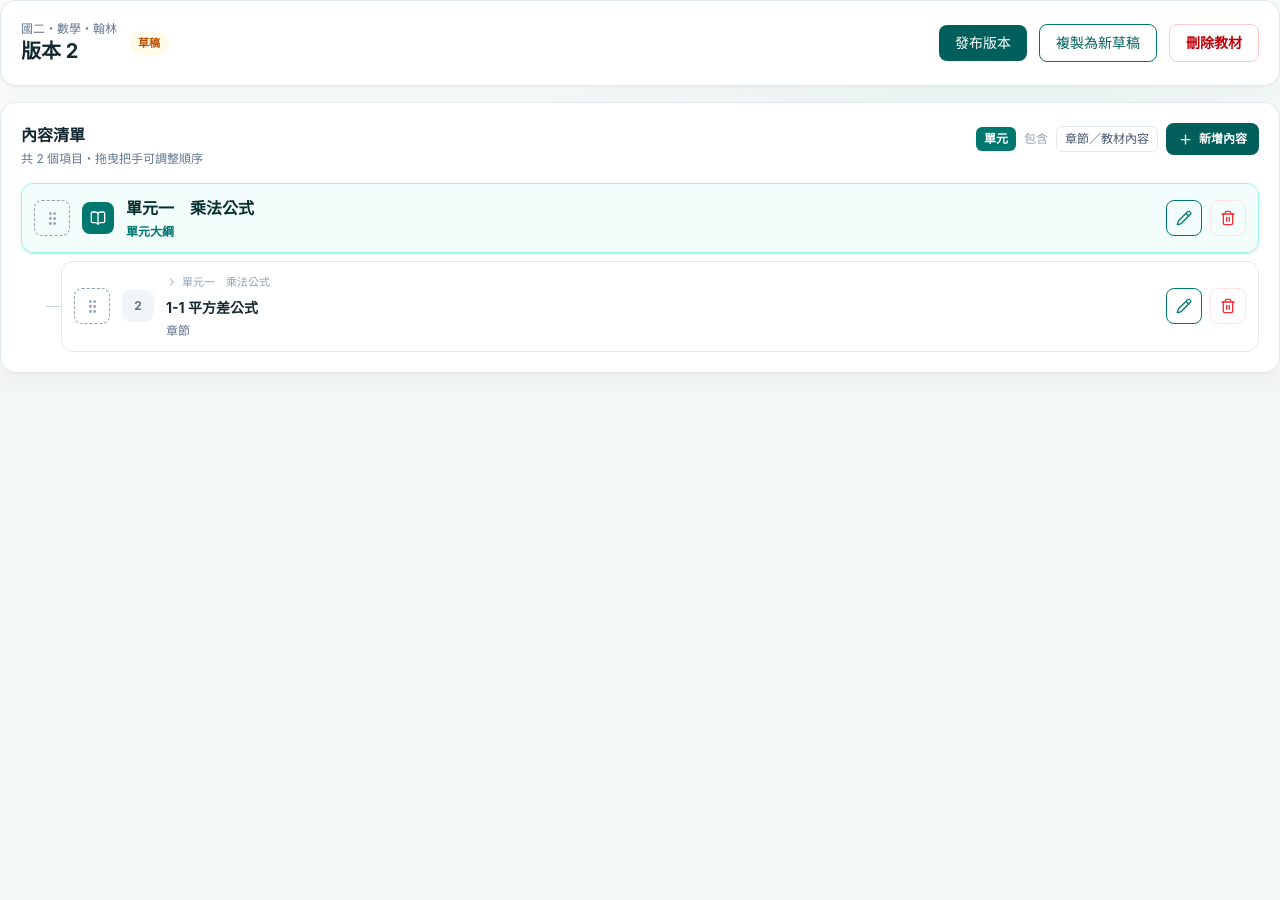
it: CurriculumDetailView › shows add, move boundaries, and delete confirmation for editable drafts
The image size is (1280, 900).
Click the button "新增內容": click(1212, 139) [1166,123,1259,155]
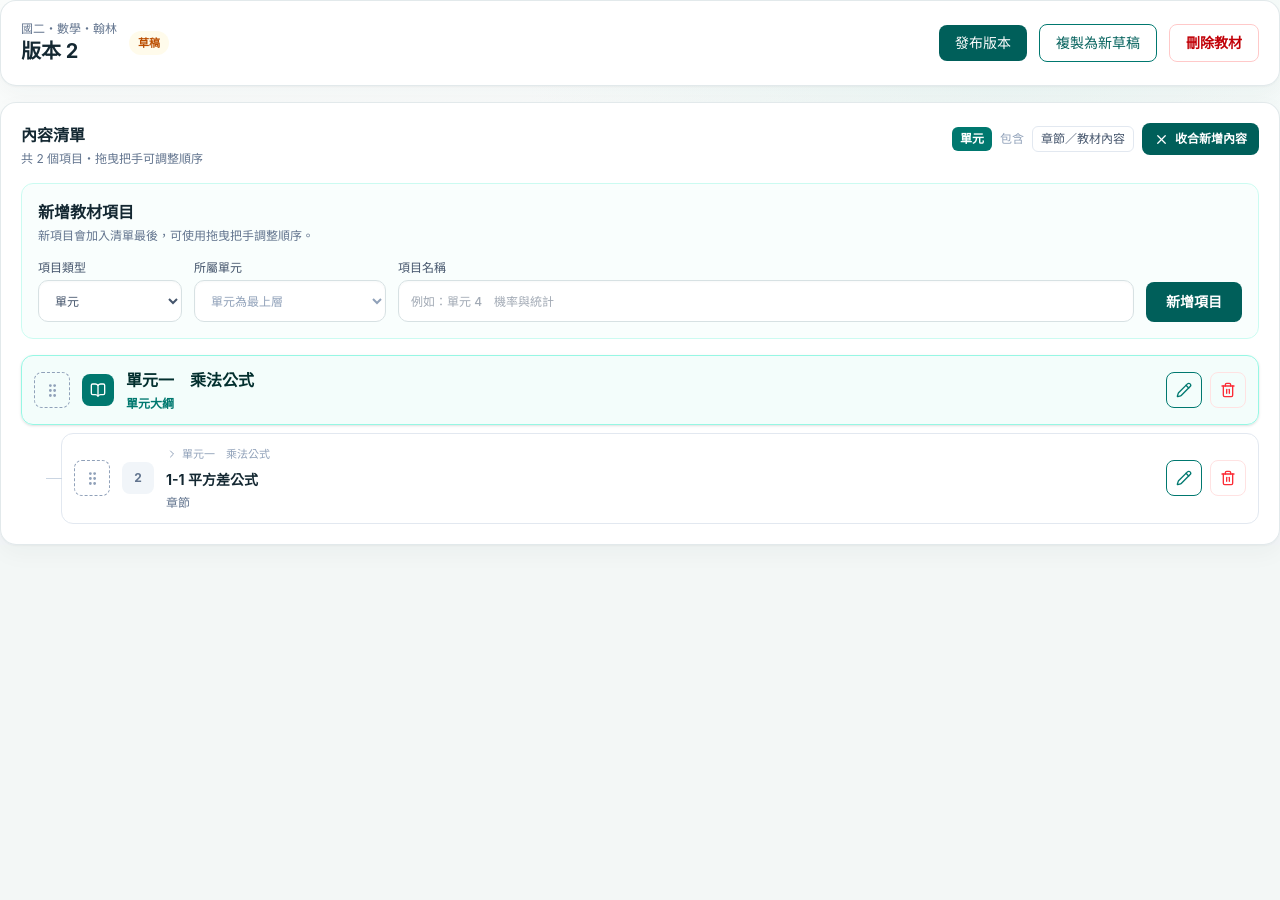
Now the dropdown labelled "項目類型" is shown
Now the dropdown labelled "所屬單元" is disabled, box [194,280,386,322]
Select "章節" in the dropdown labelled "項目類型": (110, 301) [38,280,182,322]
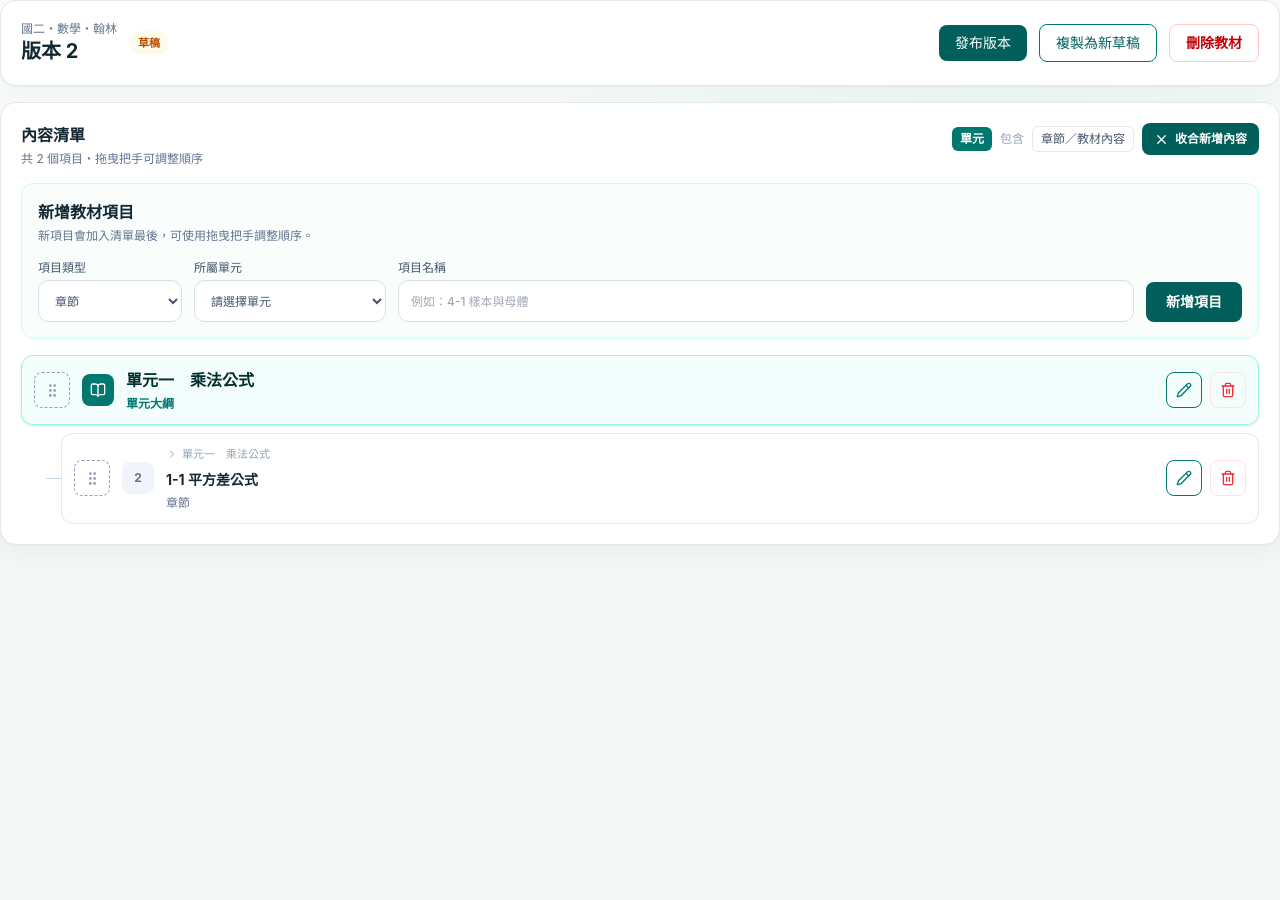
Expected: the element named "教材層級說明" reads "單元 包含 章節／教材內容", [952,126,1134,152]
Now the dropdown labelled "所屬單元" is enabled, box [194,280,386,322]
Click the button named "刪除「單元一　乘法公式」": click(1228, 390) [1210,372,1246,408]
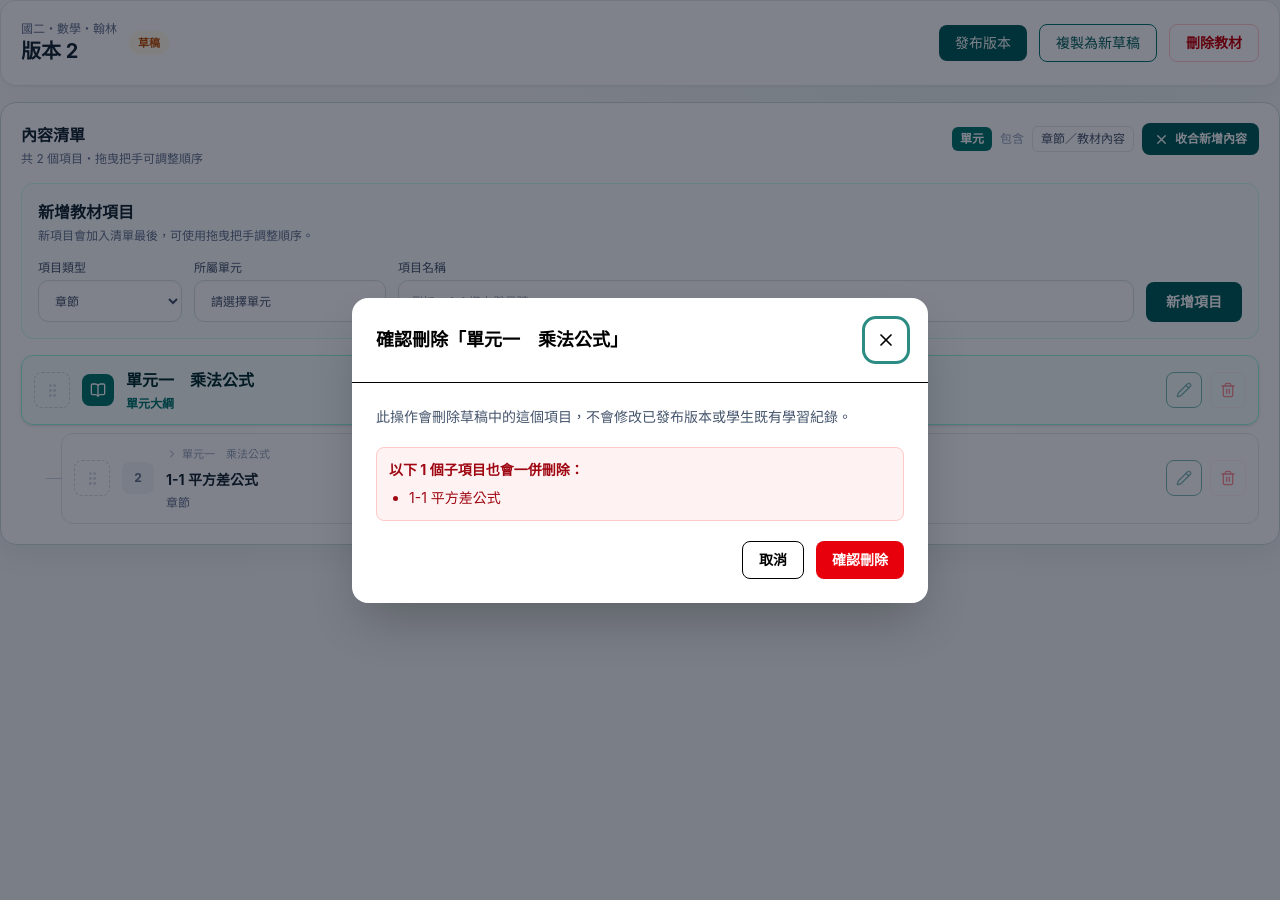
Now the number of dialogs is 1, box [352,298,928,602]
Now the text "以下 1 個子項目也會一併刪除：" is shown, box [389,460,584,478]
Click the button "取消": click(773, 560) [742,540,804,578]
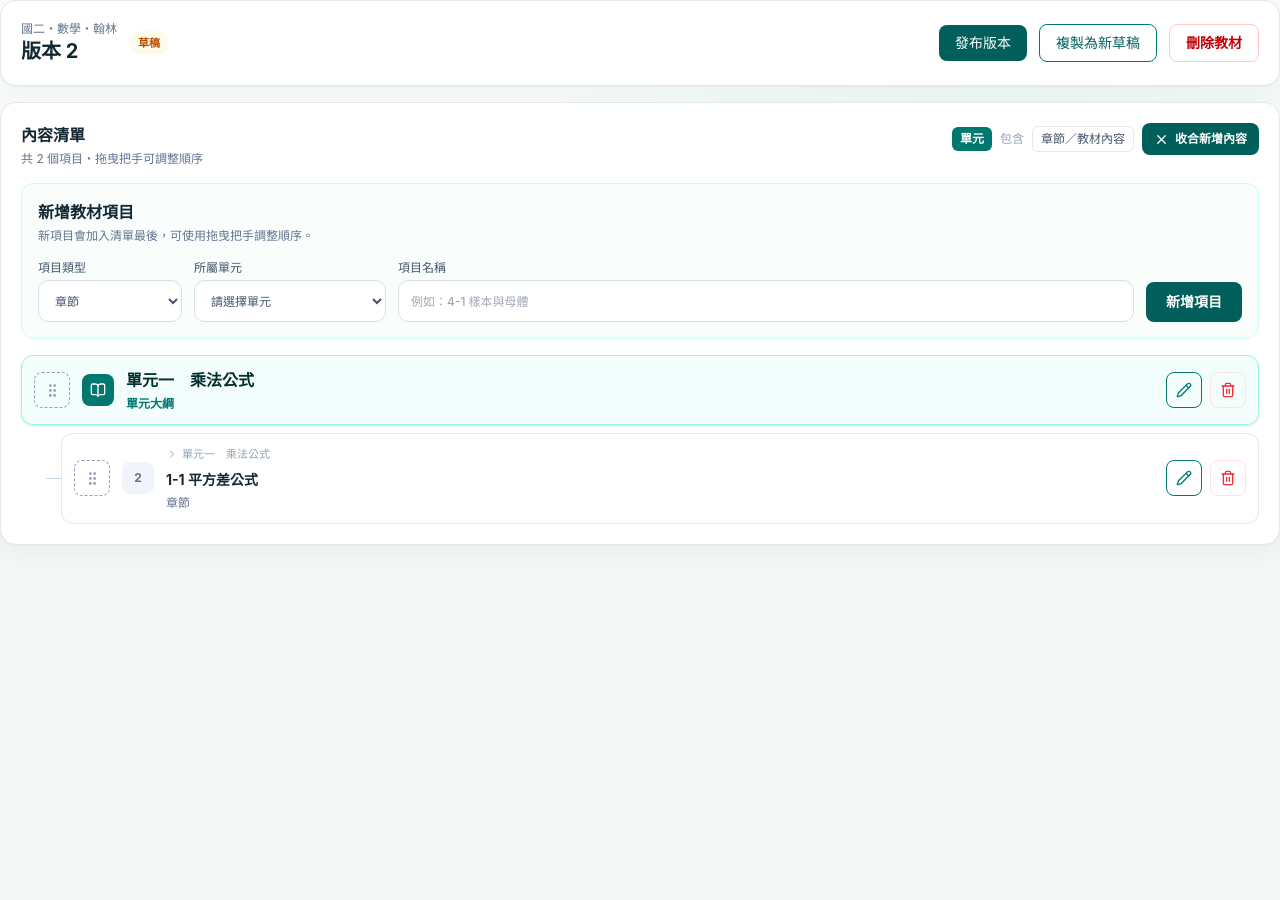
Now the heading "確認刪除" is gone
